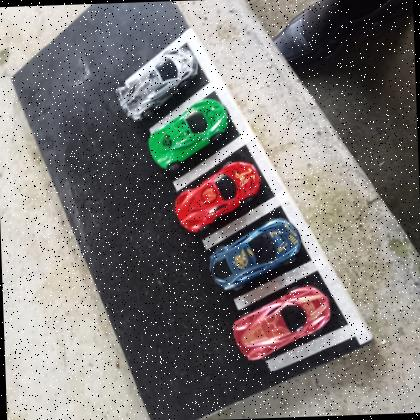Car: (230, 286, 332, 362), (207, 217, 304, 292), (112, 46, 200, 122), (173, 160, 263, 234), (147, 98, 231, 171)
